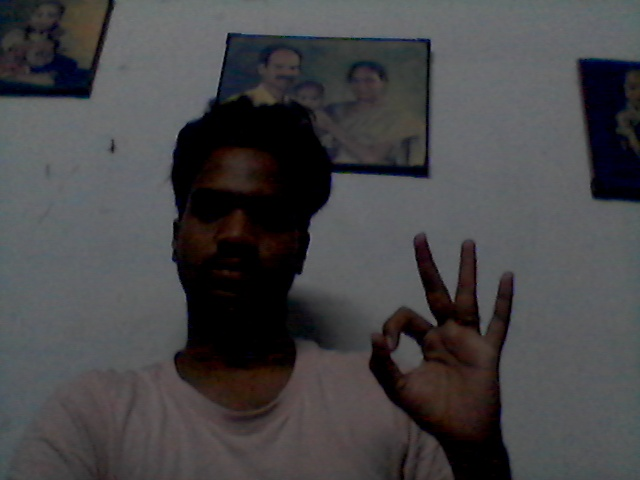Not Ok: (365, 214, 537, 460)
